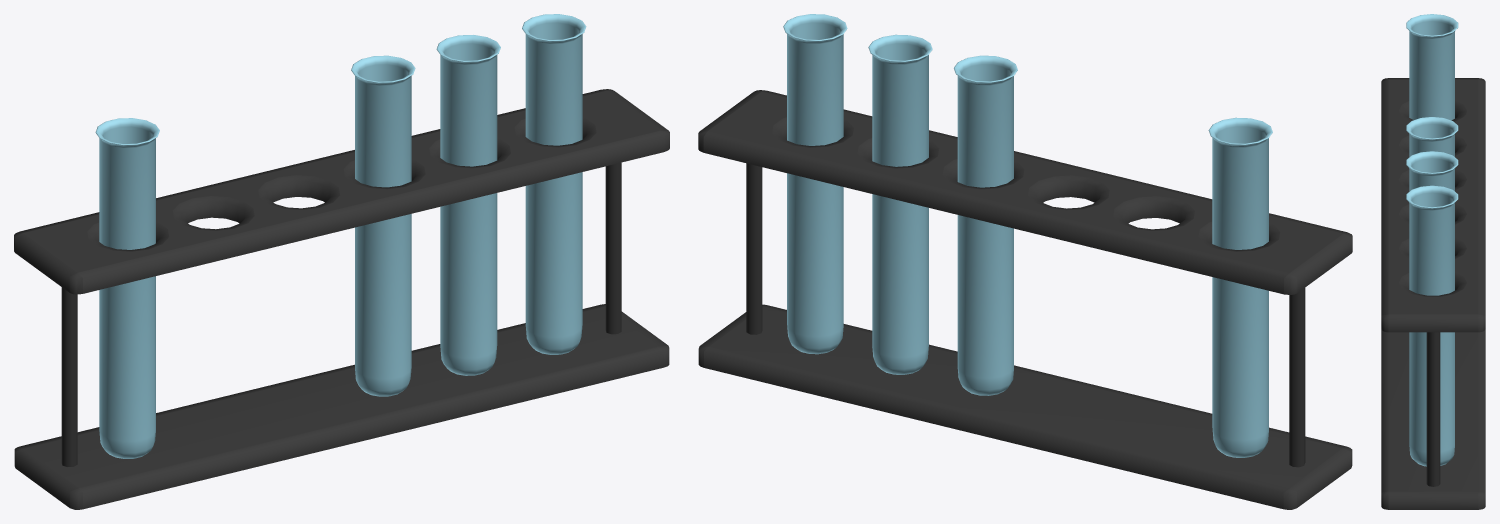
File: SM_Laboratory_Items_06.FBX
3 renders of one model, left to right at view 1: azimuth 30°, elevation 25°; view 2: azimuth 150°, elevation 25°; view 3: azimuth 270°, elevation 25°, orthographic. The views are drawn at different scales.
Visible parts, largest first — view 1: SM_Laboratory_Items_06_LOD0; view 2: SM_Laboratory_Items_06_LOD0; view 3: SM_Laboratory_Items_06_LOD0.
Boxes of the visible parts, x1=… form: SM_Laboratory_Items_06_LOD0: x1=14, y1=14, x2=669, y2=509; SM_Laboratory_Items_06_LOD0: x1=698, y1=14, x2=1352, y2=509; SM_Laboratory_Items_06_LOD0: x1=1381, y1=14, x2=1485, y2=509.
Size of what is drawn, in the model's own units: 28.76 by 5.27 by 15.46.
